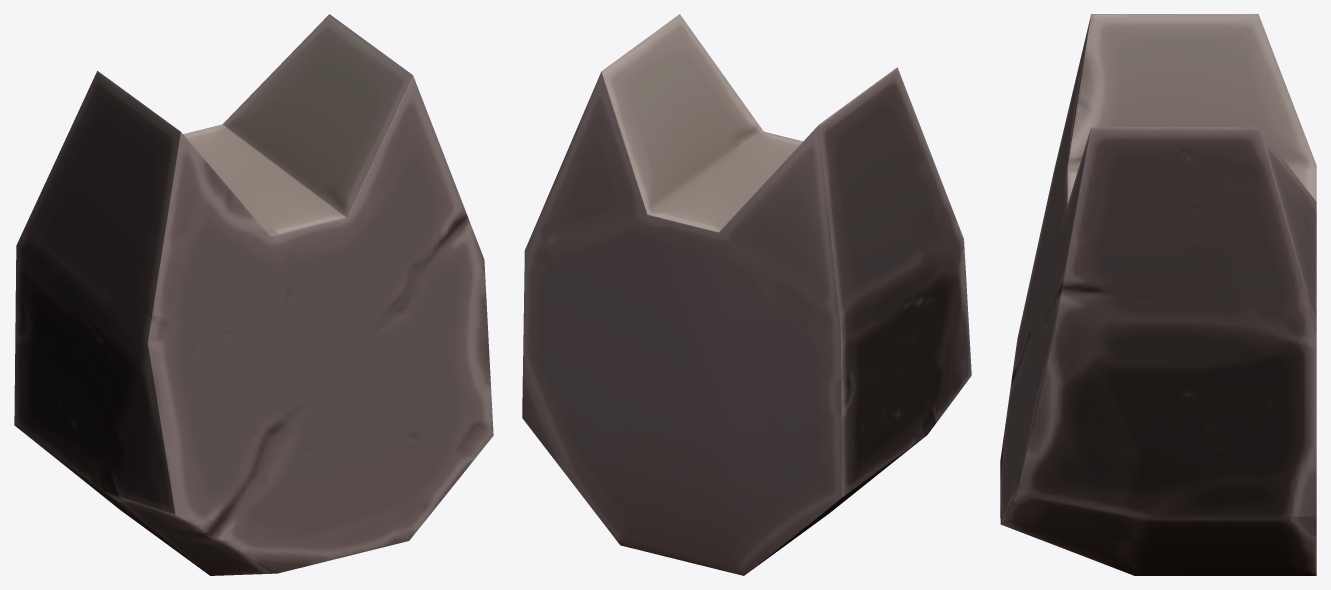
The model's file is FathSwap.fbx.
3 views of the same model, side by side, from view 1: azimuth 30°, elevation 25°; view 2: azimuth 150°, elevation 25°; view 3: azimuth 270°, elevation 25° (orthographic). The views are drawn at different scales.
Parts seen in each view (by area): view 1: Tru1.001; view 2: Tru1.001; view 3: Tru1.001.
Boxes of the visible parts, bbox=[...] form: Tru1.001: bbox=[14, 14, 493, 575]; Tru1.001: bbox=[522, 14, 971, 575]; Tru1.001: bbox=[1000, 14, 1316, 575].
Size of the model in its own units: 7.94 by 10.49 by 6.36.
1 material, 1 textured.
